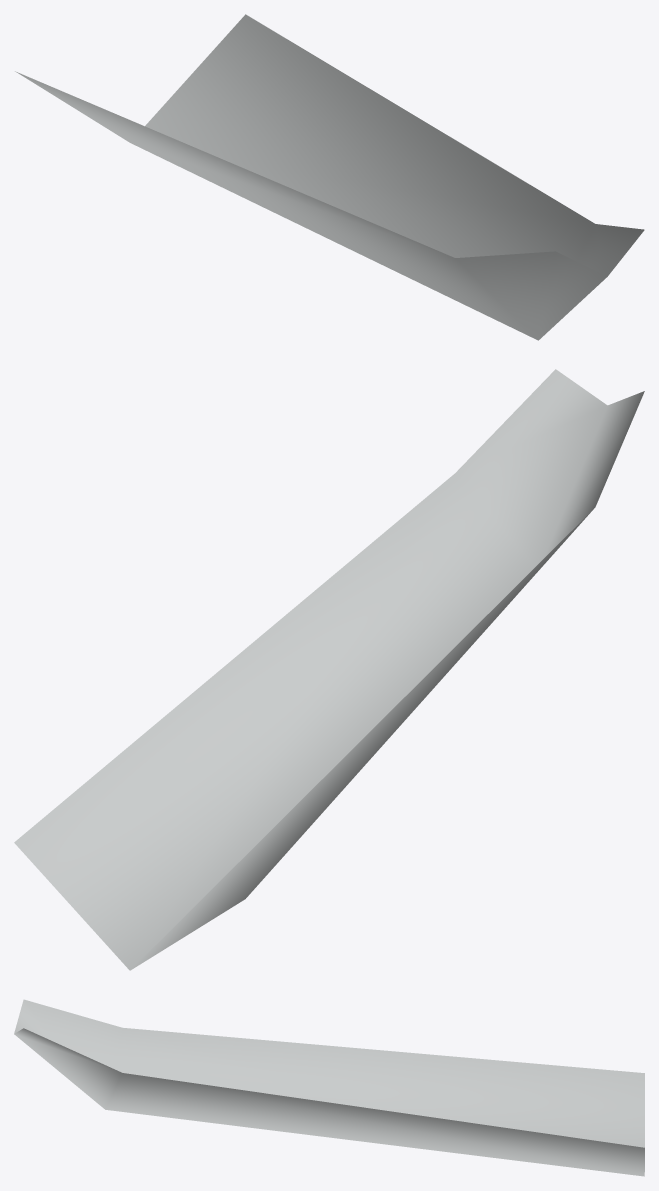
The model's file is MeshClothesDryerKnob_2_3_GeomSubset_1.obj.
The picture shows the model from 3 angles, top to bottom: view 1: azimuth 30°, elevation 25°; view 2: azimuth 150°, elevation 25°; view 3: azimuth 270°, elevation 25°; orthographic projection. The views are drawn at different scales.
Visible parts, largest first — view 1: MeshClothesDryerKnob_2_3_GeomSubset_1; view 2: MeshClothesDryerKnob_2_3_GeomSubset_1; view 3: MeshClothesDryerKnob_2_3_GeomSubset_1.
Boxes of the visible parts, bbox=[...] form: MeshClothesDryerKnob_2_3_GeomSubset_1: bbox=[15, 14, 644, 340]; MeshClothesDryerKnob_2_3_GeomSubset_1: bbox=[14, 369, 644, 970]; MeshClothesDryerKnob_2_3_GeomSubset_1: bbox=[14, 999, 644, 1176].
Size of the model in its own units: 0.00364 by 0.0037 by 0.013.
